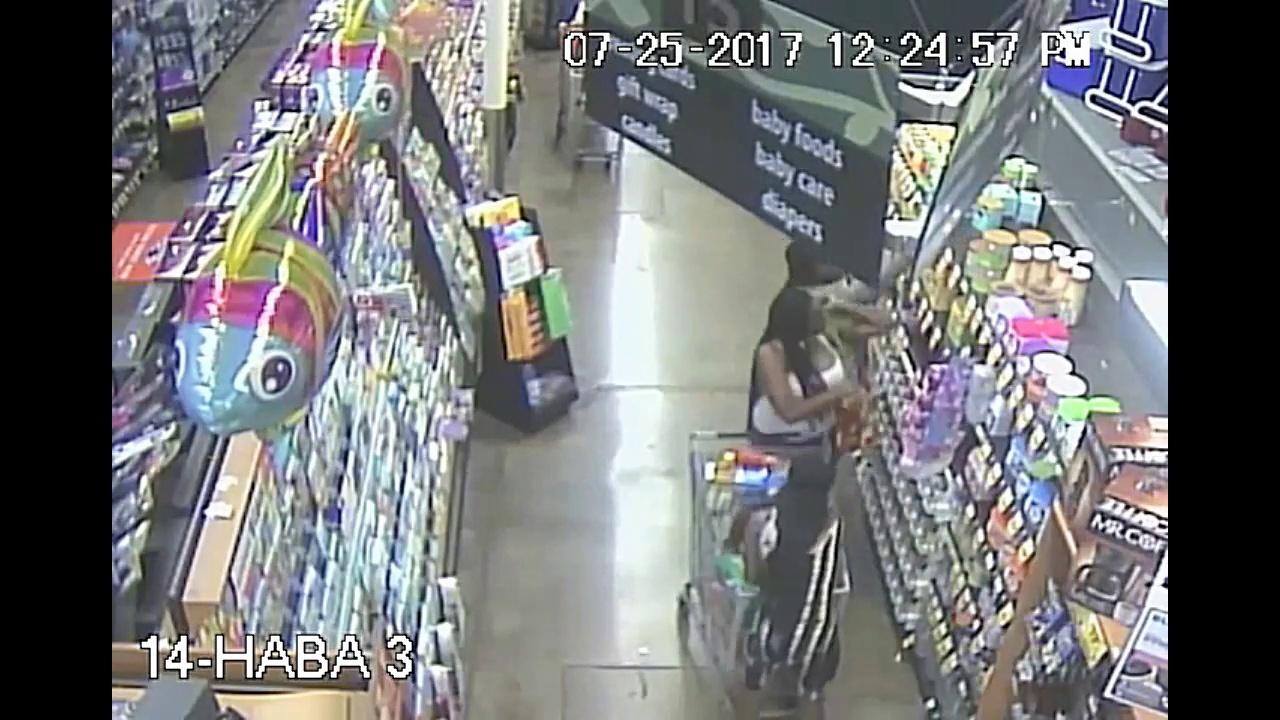Product: (809, 360, 883, 427)
Regular: (723, 226, 834, 309)
Shoplifting: (714, 219, 922, 464), (744, 453, 883, 720)
Shopping-Cart: (662, 427, 823, 521)
